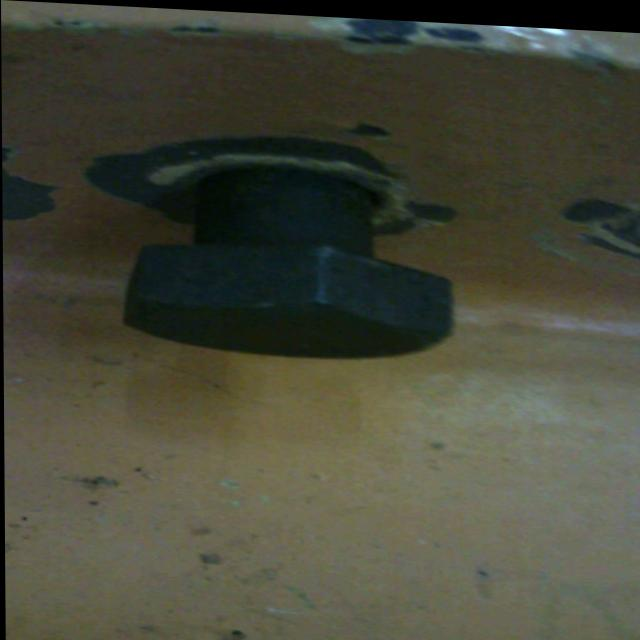Loose bolt: (123, 164, 450, 363)
Rusty bolt: (121, 163, 450, 382)
